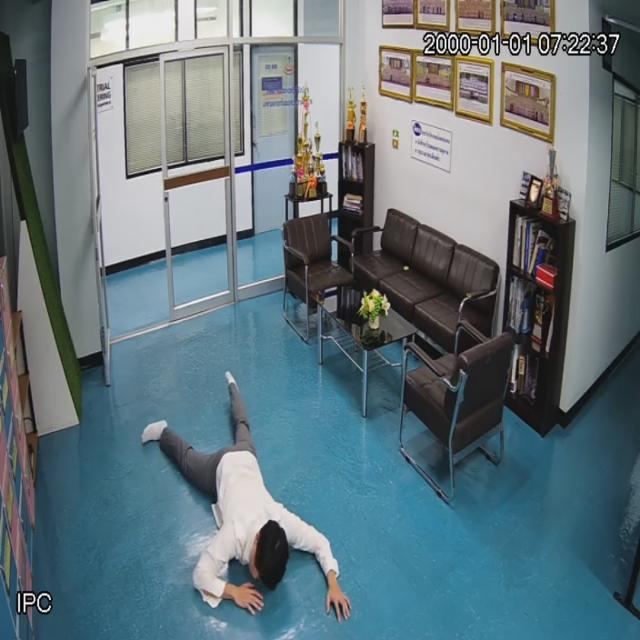fall: (129, 356, 357, 628)
